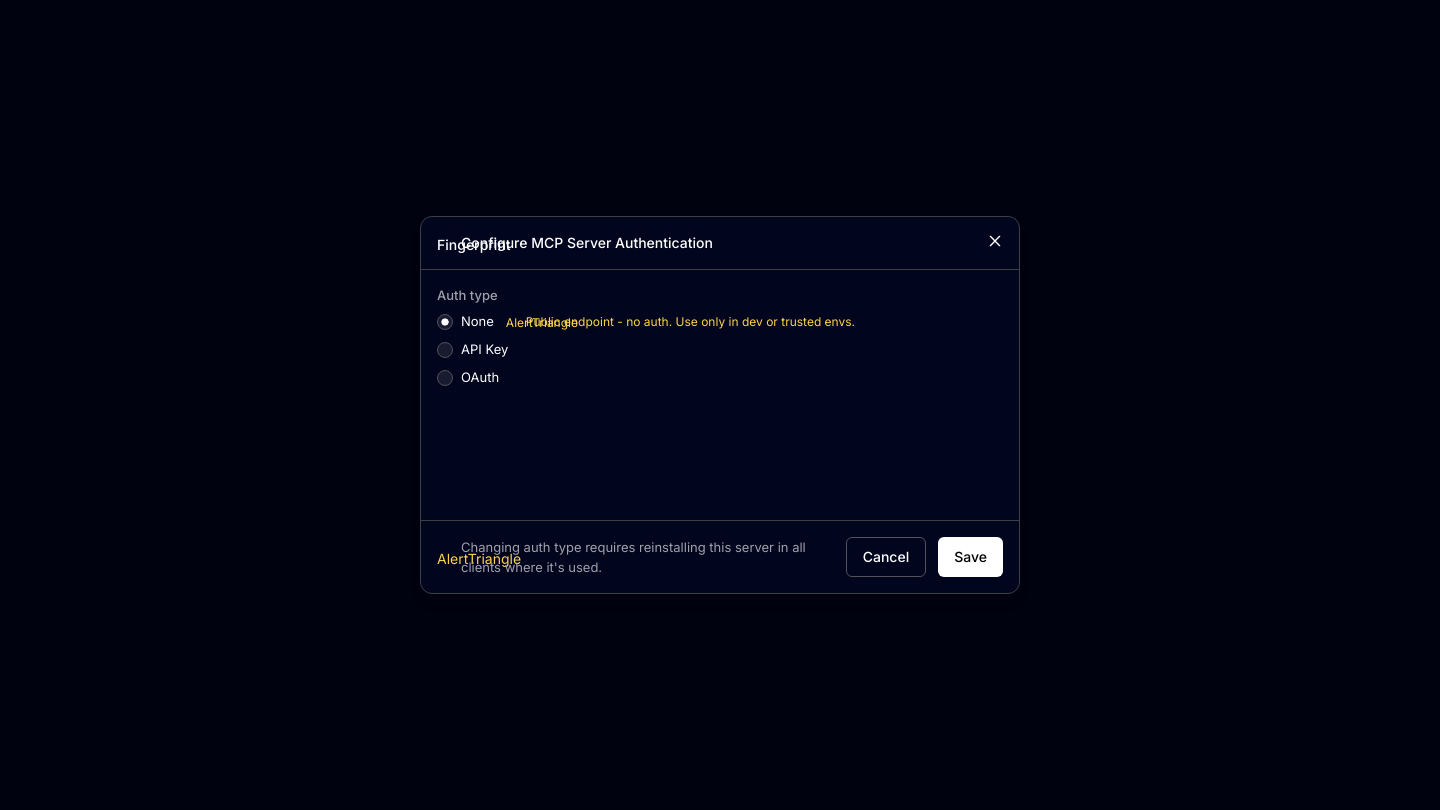
Test: AuthModal OAuth Port Synchronization › should auto-sync Server URL when Port is changed
Note: Select OAuth auth type
Click the radio button named "OAuth" next to "OAuth": (445,378) [437,370,453,386]
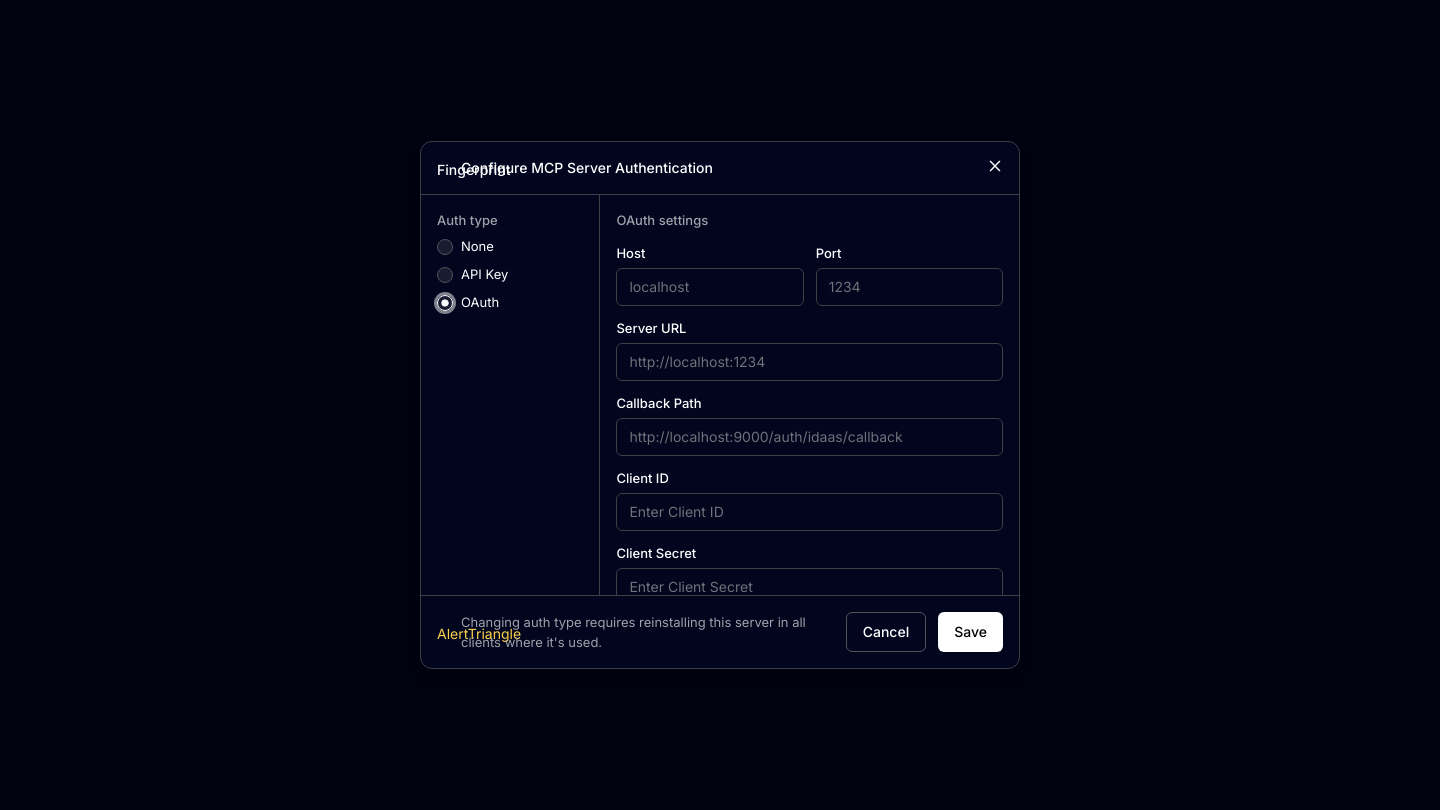
Note: Fill in the Port field
In the field labelled "Port": (909,286) [816,268,1003,306], type "9001"
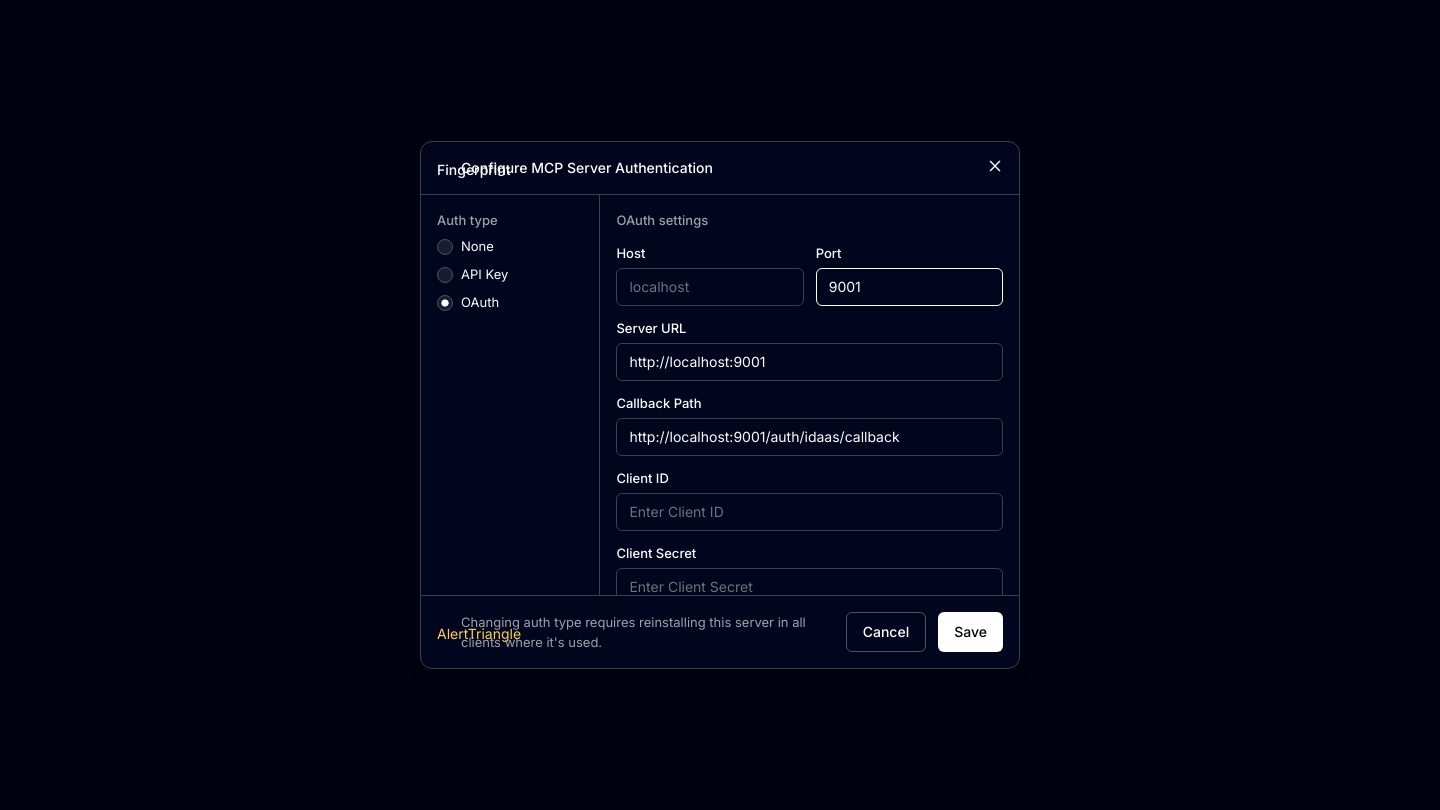
Result: the field labelled "Server URL" holds "http://localhost:9001" at [616,342,1003,380]
